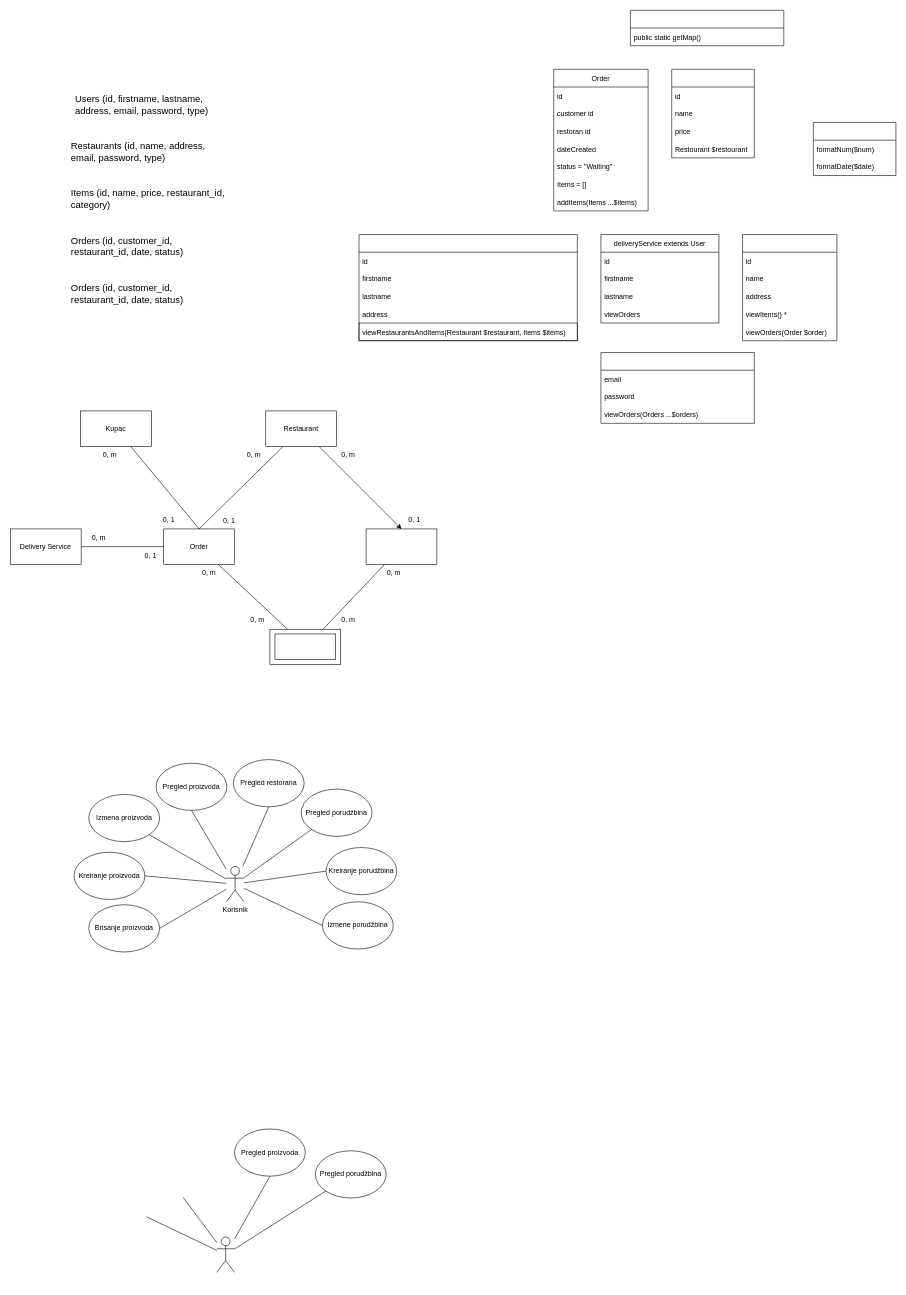
This 906x1295 diagram has some shape labels left out. The box of each missing label's shape, as (x1, y1, x2, y2) in pixels:
Abstract User: (600, 352, 754, 423)
Customer extends User: (358, 234, 577, 341)
Interface Map: (630, 10, 784, 46)
Item: (366, 528, 437, 564)
Items: (671, 69, 754, 158)
Korisnik/Restoran: (216, 1236, 235, 1272)
Order_Items: (274, 633, 336, 659)
Restoran extends User: (742, 234, 837, 341)
Trait Format: (813, 122, 896, 176)
